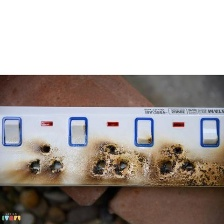three_eye_plug: (0, 100, 224, 190)
